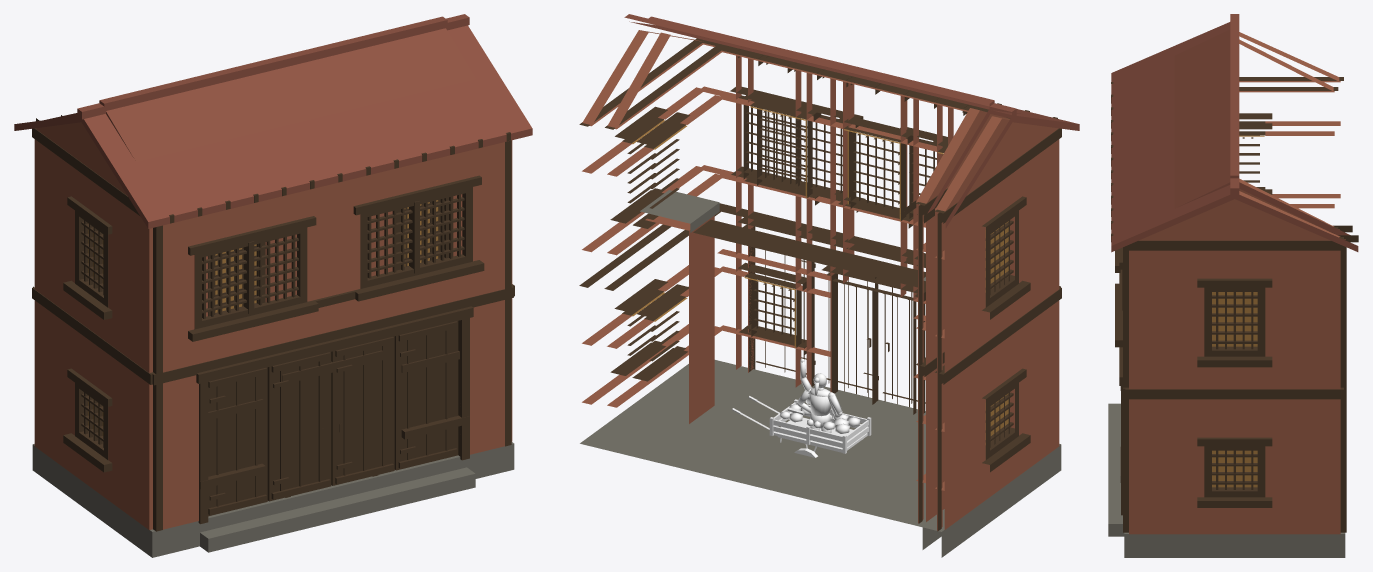
The model's file is street_kit.glb.
3 renders of one model, left to right at view 1: azimuth 30°, elevation 25°; view 2: azimuth 150°, elevation 25°; view 3: azimuth 270°, elevation 25°, orthographic. The views are drawn at different scales.
Visible parts, largest first — view 1: Building02_Street_Timber, Building02_Street_Brick, Building02_Street_Roof, Building01_Street_Roof, Building02_Street_Stone, Building01_Street_Timber, Building01_Street_Brick, Building02_Street_Window; view 2: Building02_Street_Brick, Building02_Street_Timber, Building01_Street_Stone, Building01_Street_Timber, Building01_Street_Brick, Building02_Street_Stone, Gateway_Street_Brick, Gateway_Street_Timber, Building02_Street_Roof, MarketCart_Street_Palette, Building01_Street_Roof, Gateway_Street_Stone (+3 smaller); view 3: Building02_Street_Brick, Building02_Street_Timber, Building02_Street_Roof, Building01_Street_Roof, Building02_Street_Stone, Building02_Street_Window, Building01_Street_Brick, Building01_Street_Timber.
Boxes of the visible parts, x1,y1,x2,y2 form: Building02_Street_Timber: (32, 118, 514, 531); Building02_Street_Brick: (34, 122, 512, 530); Building02_Street_Roof: (14, 14, 532, 228); Building01_Street_Roof: (44, 16, 475, 161); Building02_Street_Stone: (32, 442, 514, 557); Building01_Street_Timber: (61, 115, 469, 497); Building01_Street_Brick: (206, 194, 462, 316); Building02_Street_Window: (88, 200, 438, 435); Building02_Street_Brick: (582, 30, 1059, 530); Building02_Street_Timber: (579, 38, 1061, 531); Building01_Street_Stone: (605, 363, 941, 549); Building01_Street_Timber: (604, 45, 1010, 523); Building01_Street_Brick: (607, 32, 1014, 522); Building02_Street_Stone: (580, 360, 1061, 557); Gateway_Street_Brick: (645, 215, 714, 423); Gateway_Street_Timber: (687, 219, 925, 289); Building02_Street_Roof: (624, 14, 1079, 228); MarketCart_Street_Palette: (732, 396, 871, 457); Building01_Street_Roof: (647, 16, 1020, 213); Gateway_Street_Stone: (640, 190, 925, 280); Building02_Street_Brick: (1129, 32, 1345, 534); Building02_Street_Timber: (1111, 77, 1358, 532); Building02_Street_Roof: (1111, 14, 1358, 252); Building01_Street_Roof: (1174, 21, 1350, 235); Building02_Street_Stone: (1108, 403, 1345, 557); Building02_Street_Window: (1212, 292, 1257, 487); Building01_Street_Brick: (1239, 39, 1339, 230); Building01_Street_Timber: (1120, 87, 1352, 482).
Bounding box in the file's own units: 7.02 × 7.1 × 4.26.
